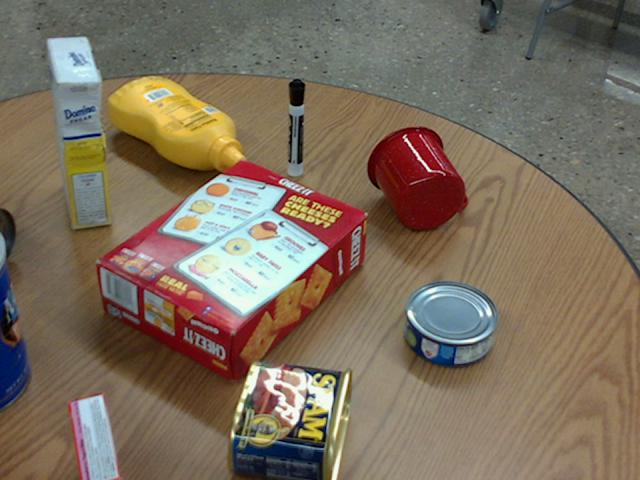cracker_box: (98, 161, 366, 380)
gelatin_box: (68, 391, 121, 479)
large_marker: (287, 79, 304, 175)
master_chef_can: (0, 235, 29, 408)
mug: (366, 125, 467, 230)
mustard_bottle: (108, 77, 245, 171)
potted_meat_can: (226, 360, 351, 479)
sugar_box: (49, 37, 108, 227)
tomato_soup_can: (0, 206, 15, 264)
tuna_fish_can: (403, 281, 497, 366)
